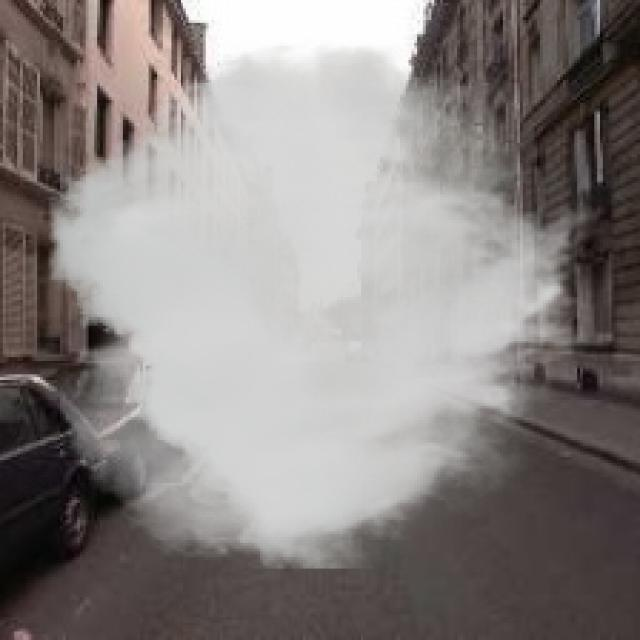smoke: (48, 37, 603, 569)
